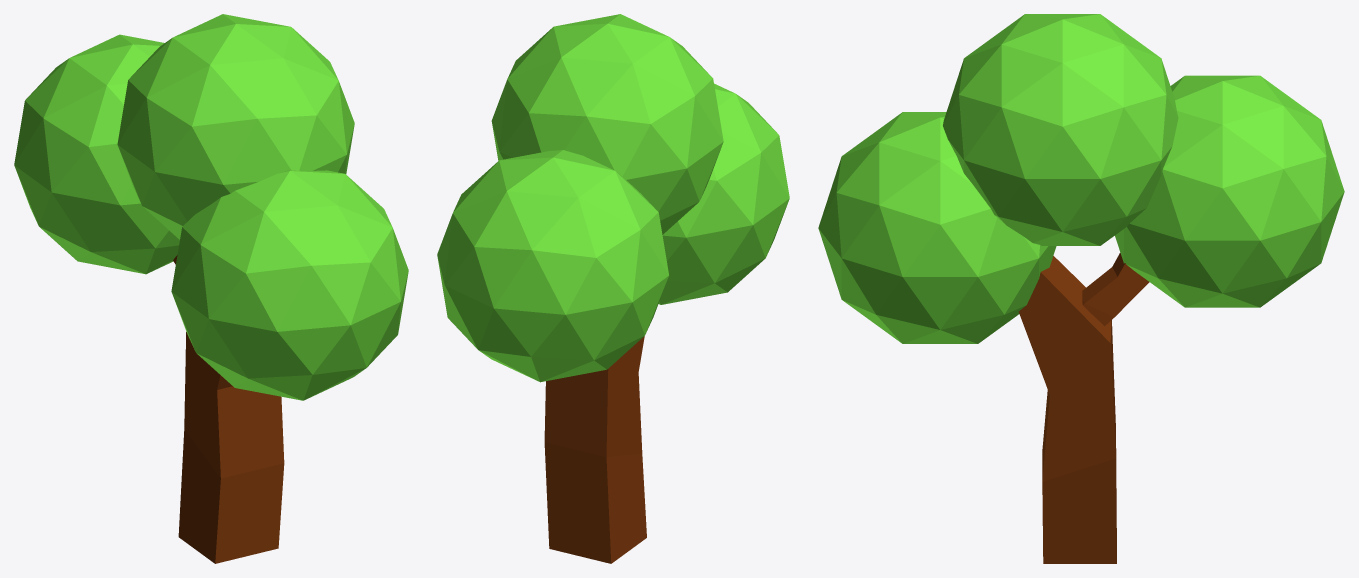
File: realtree.fbx
3 views of the same model, side by side, from view 1: azimuth 30°, elevation 25°; view 2: azimuth 150°, elevation 25°; view 3: azimuth 270°, elevation 25° (orthographic). The views are drawn at different scales.
Parts seen in each view (by area): view 1: Cube; view 2: Cube; view 3: Cube, Cube.001.
Boxes of the visible parts, left/top/right/bottom form: Cube: left=14, top=14, right=408, bottom=563; Cube: left=437, top=14, right=789, bottom=563; Cube: left=818, top=14, right=1344, bottom=563; Cube.001: left=1082, top=253, right=1149, bottom=326.
Size of the model in its own units: 705 by 1584 by 1430.
